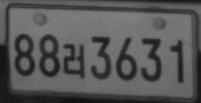1: (167, 39, 190, 83)
3: (140, 37, 162, 82), (90, 36, 112, 79)
6: (115, 36, 138, 81)
8: (13, 32, 36, 76), (38, 33, 60, 77)
러: (62, 43, 85, 77)
